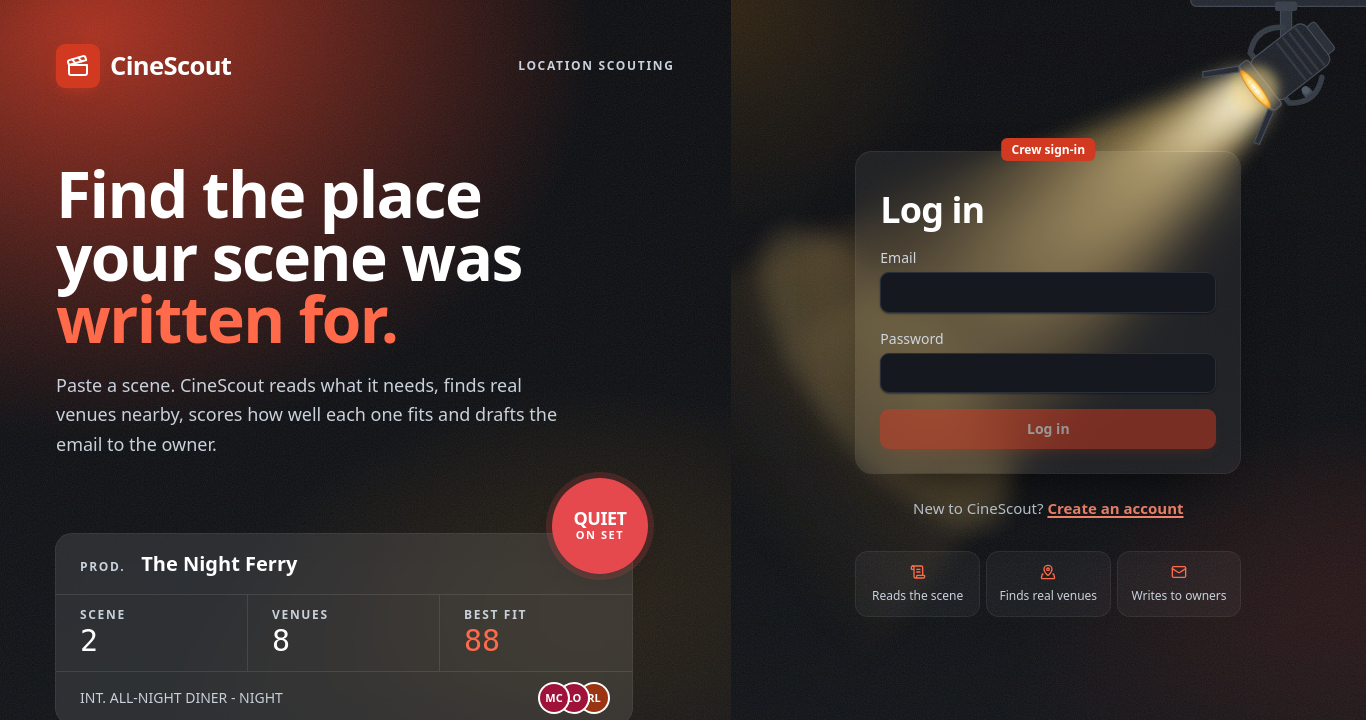
Test case: assessing a venue with AI › scores a venue added by hand and shows the report in place
The width and height of the screenshot is (1366, 720).
In the field labelled "Email": [1048, 293] box [880, 272, 1216, 313], type "ada@example.com"
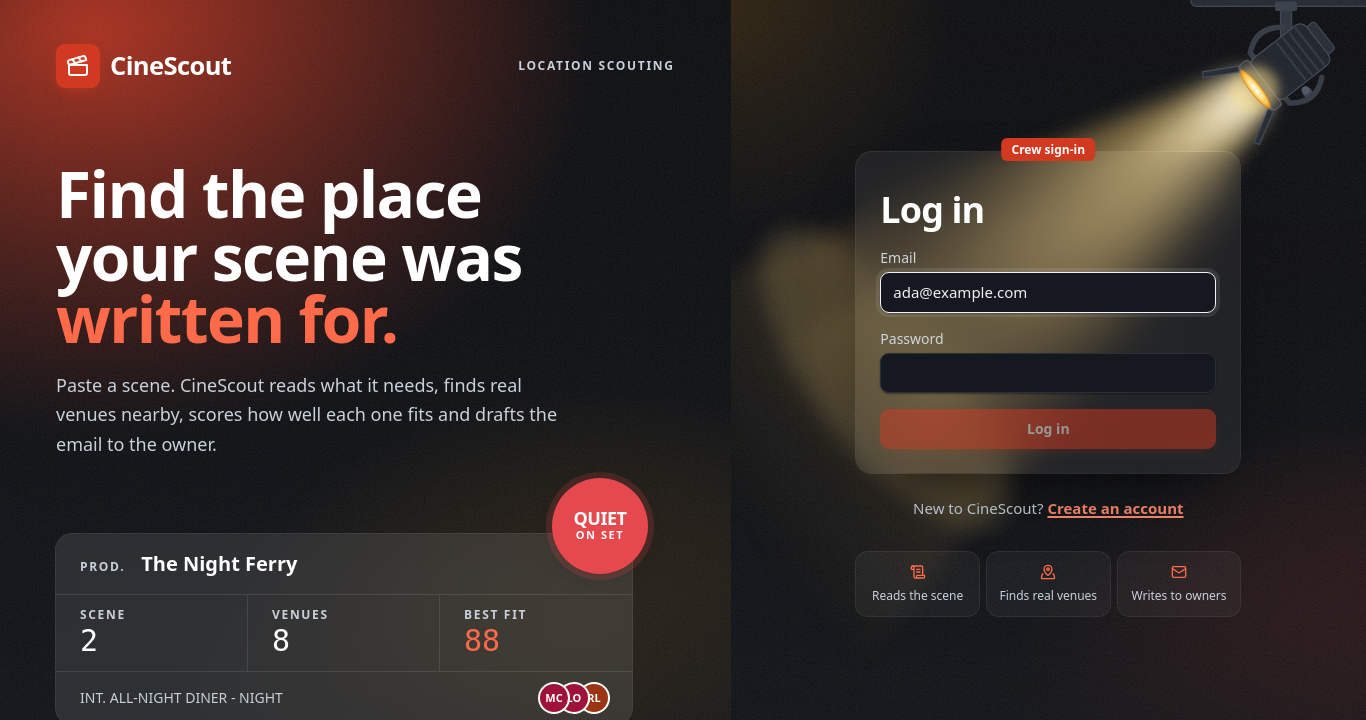
In the password field labelled "Password": [1048, 373] box [880, 353, 1216, 393], type "a-long-password"
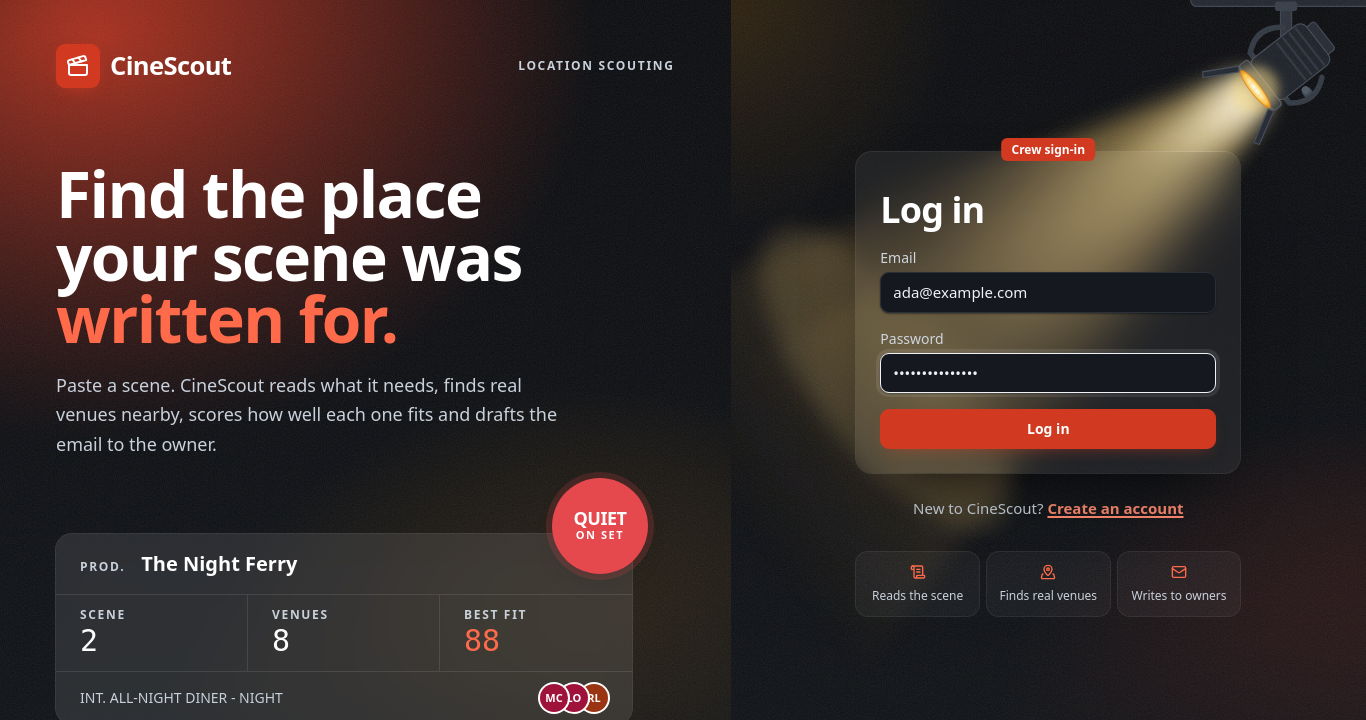
Click the button "Log in": [1048, 429] box [880, 409, 1216, 449]
(page scrolled)
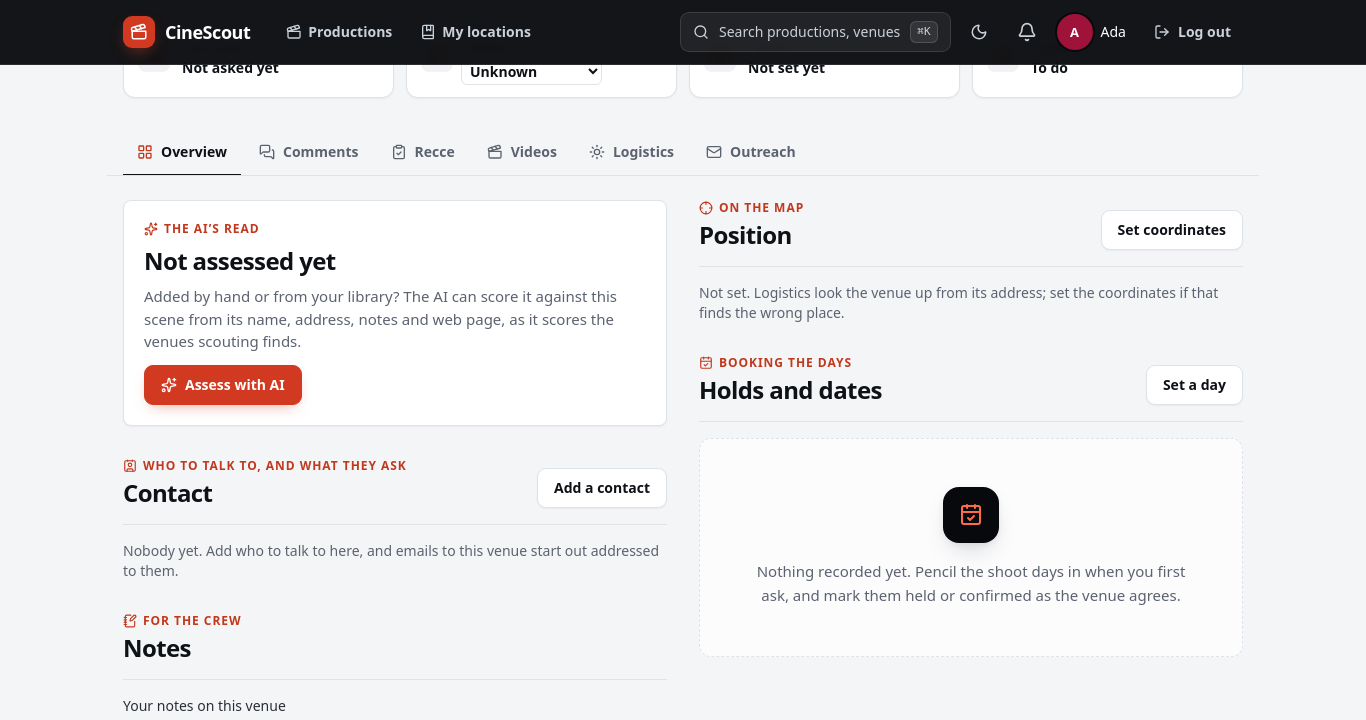
Expected: the heading "Not assessed yet" is shown, [144, 244, 336, 277]
Click the button "Assess with AI": [223, 384] box [144, 364, 302, 404]
(page scrolled)
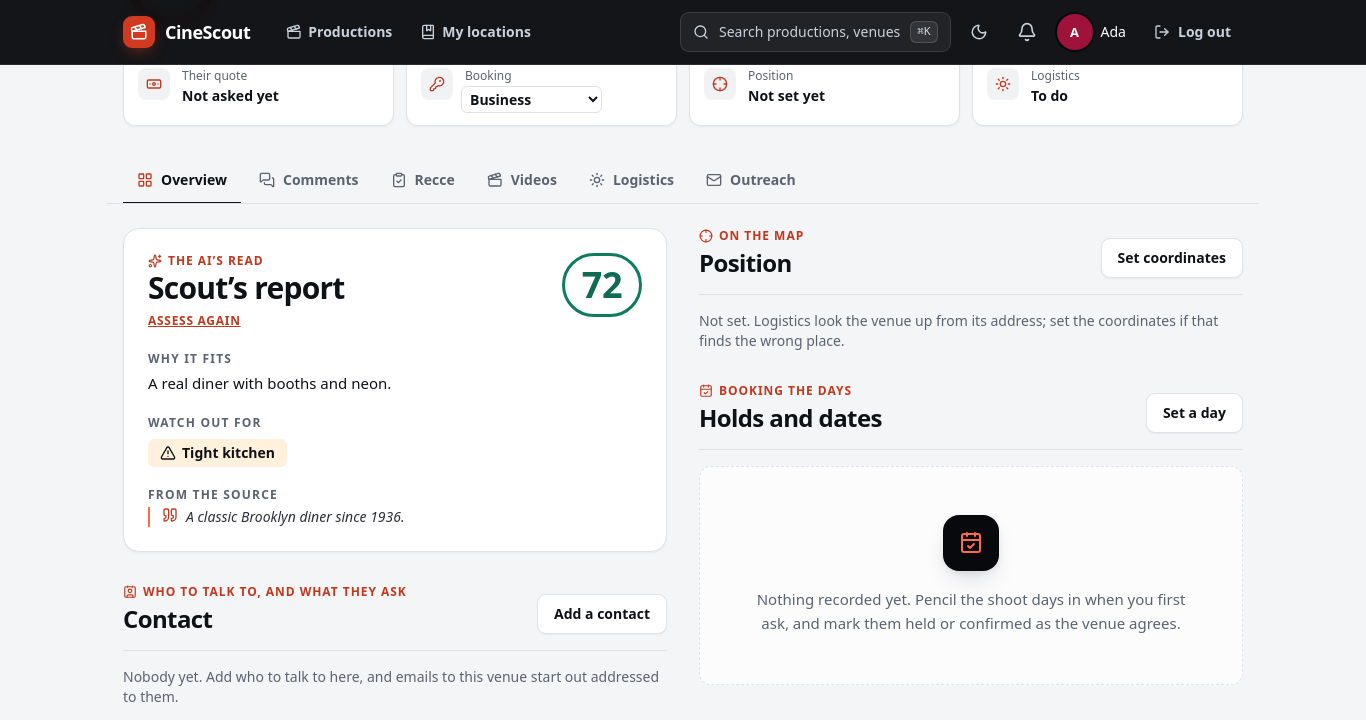
Expected: the heading "Scout’s report" is shown, [148, 273, 345, 303]
Expected: the text "A real diner with booths and neon." is shown, [148, 373, 391, 393]
Expected: the button "Assess again" is shown, [148, 313, 241, 329]
